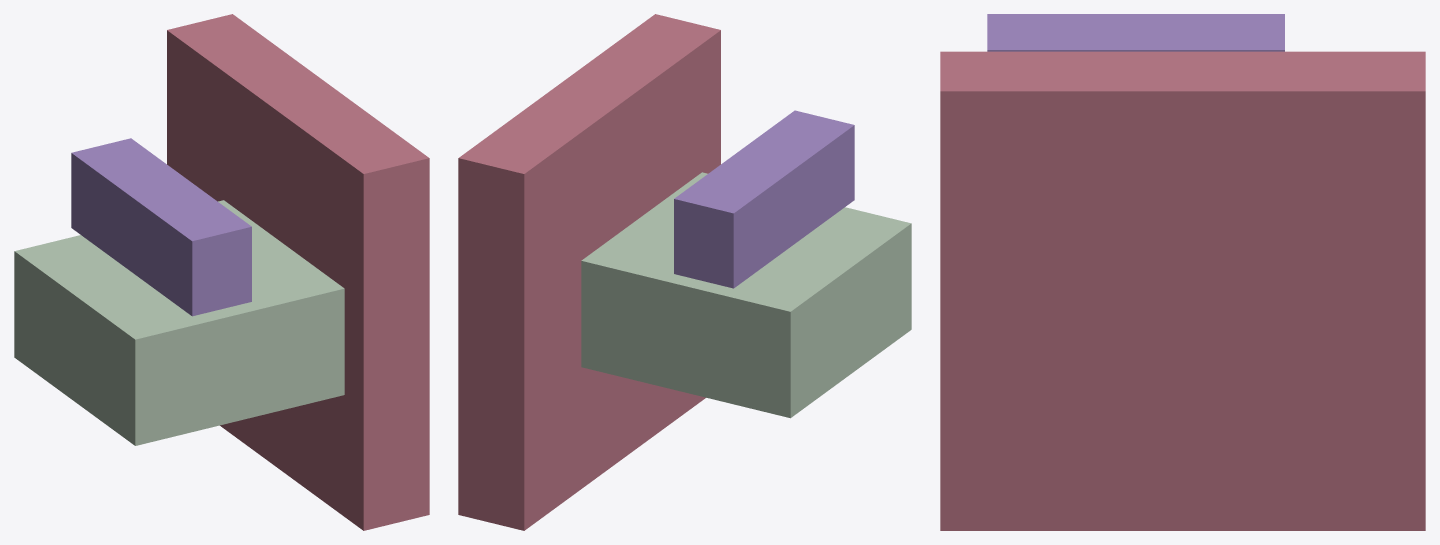
File: 199517_pred.glb
3 renders of one model, left to right at view 1: azimuth 30°, elevation 25°; view 2: azimuth 150°, elevation 25°; view 3: azimuth 270°, elevation 25°, orthographic. The views are drawn at different scales.
Visible parts, largest first — view 1: world; view 2: world; view 3: world.
Part boxes in pixels (x1,y1,x2,y2): world: [14, 14, 429, 530]; world: [458, 14, 911, 530]; world: [940, 14, 1425, 530].
Bounding box in the file's own units: 4.6 × 5.7 × 5.7.
